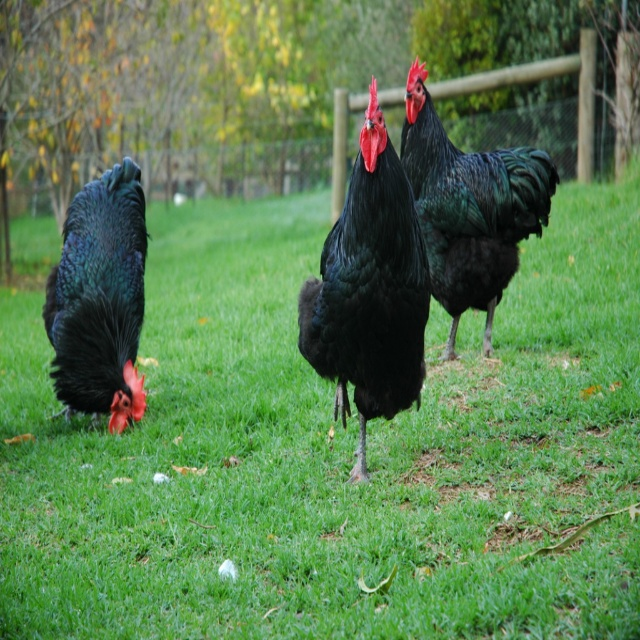Chicken: (296, 75, 431, 482), (399, 58, 560, 361), (41, 157, 153, 431)
